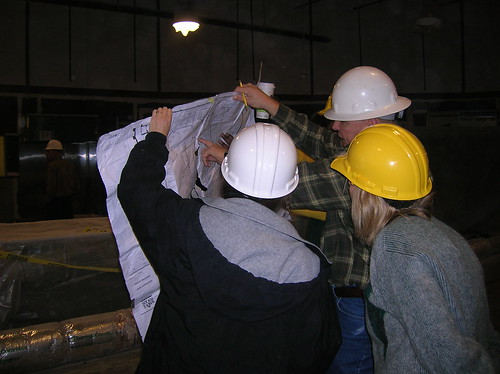person hardhat: (133, 104, 330, 373), (252, 65, 413, 374), (327, 123, 488, 374)
